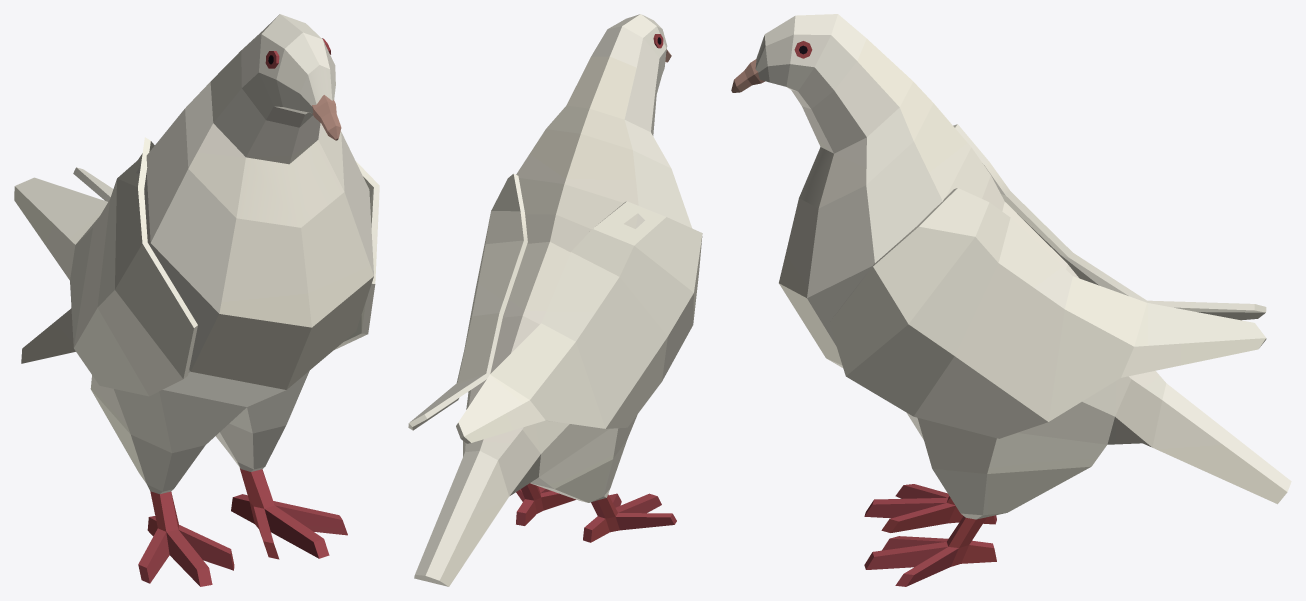
Rendered from 2jmH3trzPFf.glb.
3 views of the same model, side by side, from view 1: azimuth 30°, elevation 25°; view 2: azimuth 150°, elevation 25°; view 3: azimuth 270°, elevation 25° (orthographic). The views are drawn at different scales.
Parts seen in each view (by area): view 1: Geo_Dove; view 2: Geo_Dove; view 3: Geo_Dove.
Part boxes in pixels (x1,y1,x2,y2): Geo_Dove: (14, 14, 379, 586); Geo_Dove: (408, 14, 702, 586); Geo_Dove: (731, 14, 1291, 586).
Size of the model in its own units: 0.4682 by 1 by 0.9637.
Materials: 1 (1 with a texture image).
